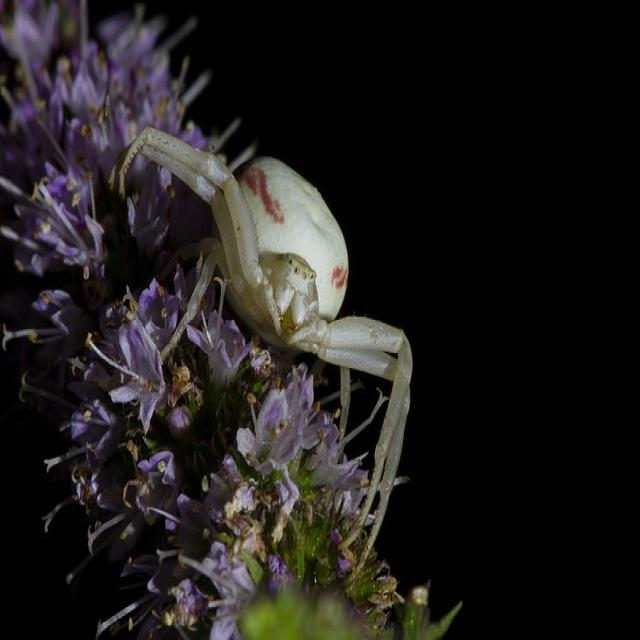spyder: (111, 126, 413, 533)
